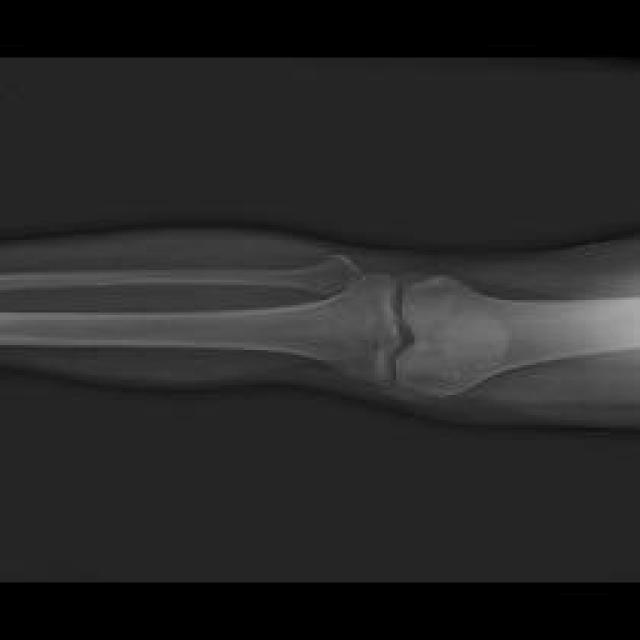normal: (0, 274, 401, 384), (393, 274, 639, 393), (0, 255, 356, 295)
